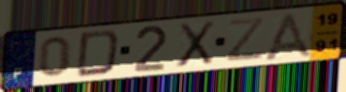0: (36, 35, 74, 80)
2: (133, 23, 169, 73)
A: (260, 10, 316, 60)
D: (74, 28, 123, 79)
X: (174, 18, 218, 70)
Z: (224, 16, 266, 63)
